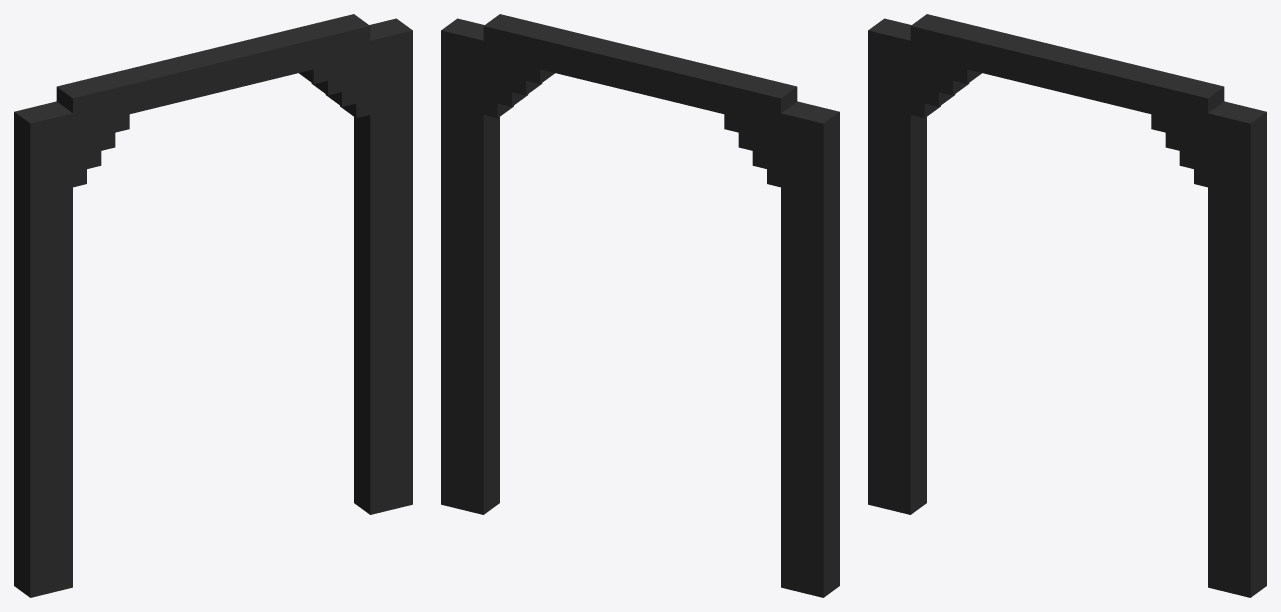
Rendered from marco.obj.
3 views of the same model, side by side, from view 1: azimuth 30°, elevation 25°; view 2: azimuth 150°, elevation 25°; view 3: azimuth 330°, elevation 25° (orthographic).
Visible parts, largest first — view 1: mesh; view 2: mesh; view 3: mesh.
Boxes of the visible parts, box(x1,y1,x2,y2) form: mesh: box(14, 14, 412, 597); mesh: box(441, 14, 839, 597); mesh: box(868, 14, 1266, 597).
Size of the model in its own units: 2.7 by 3.3 by 0.2.
